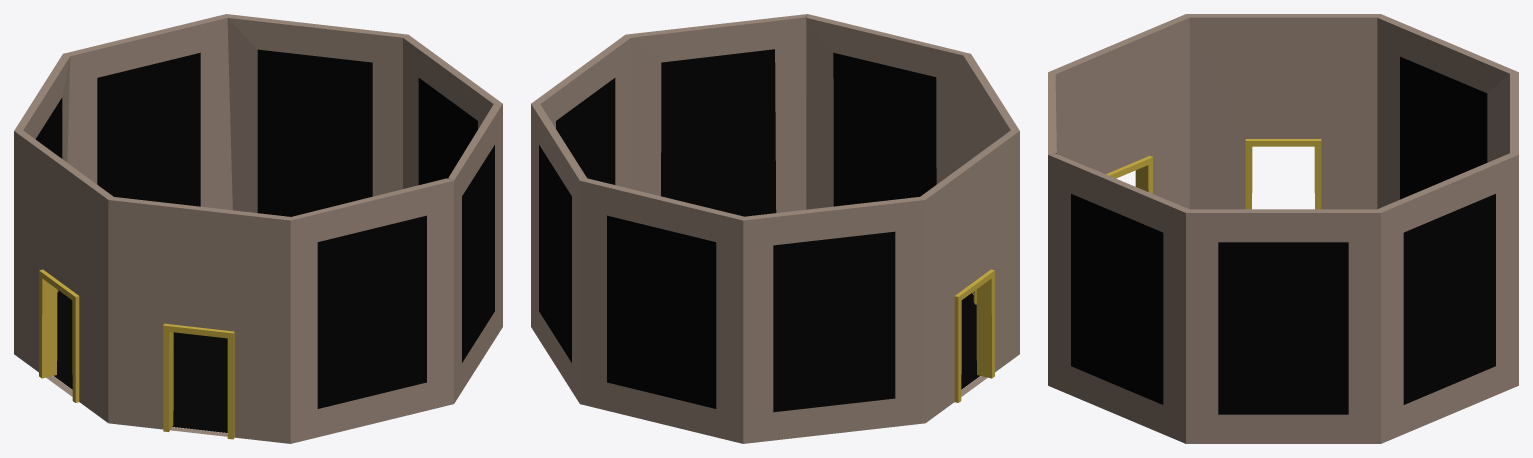
File: Room 10m 8s 2 door - 2x2-room4.fbx
3 renders of one model, left to right at view 1: azimuth 30°, elevation 25°; view 2: azimuth 150°, elevation 25°; view 3: azimuth 270°, elevation 25°, orthographic. The views are drawn at different scales.
Visible parts, largest first — view 1: Room 10m 8s 2 DOOR.005; view 2: Room 10m 8s 2 DOOR.005; view 3: Room 10m 8s 2 DOOR.005.
Boxes of the visible parts, bbox=[...] form: Room 10m 8s 2 DOOR.005: bbox=[14, 14, 502, 443]; Room 10m 8s 2 DOOR.005: bbox=[531, 14, 1019, 443]; Room 10m 8s 2 DOOR.005: bbox=[1048, 14, 1518, 443].
Bounding box in the file's own units: 9.33 × 5 × 9.24.
